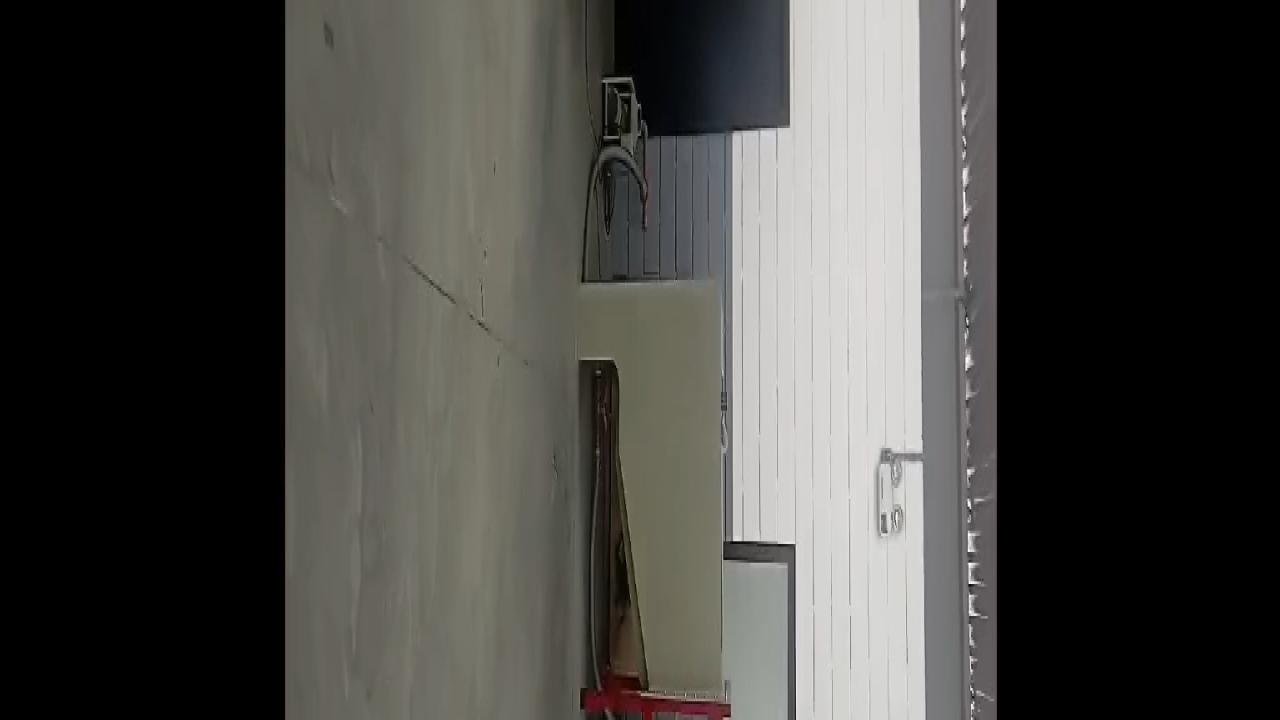Cube: (720, 392, 726, 411)
